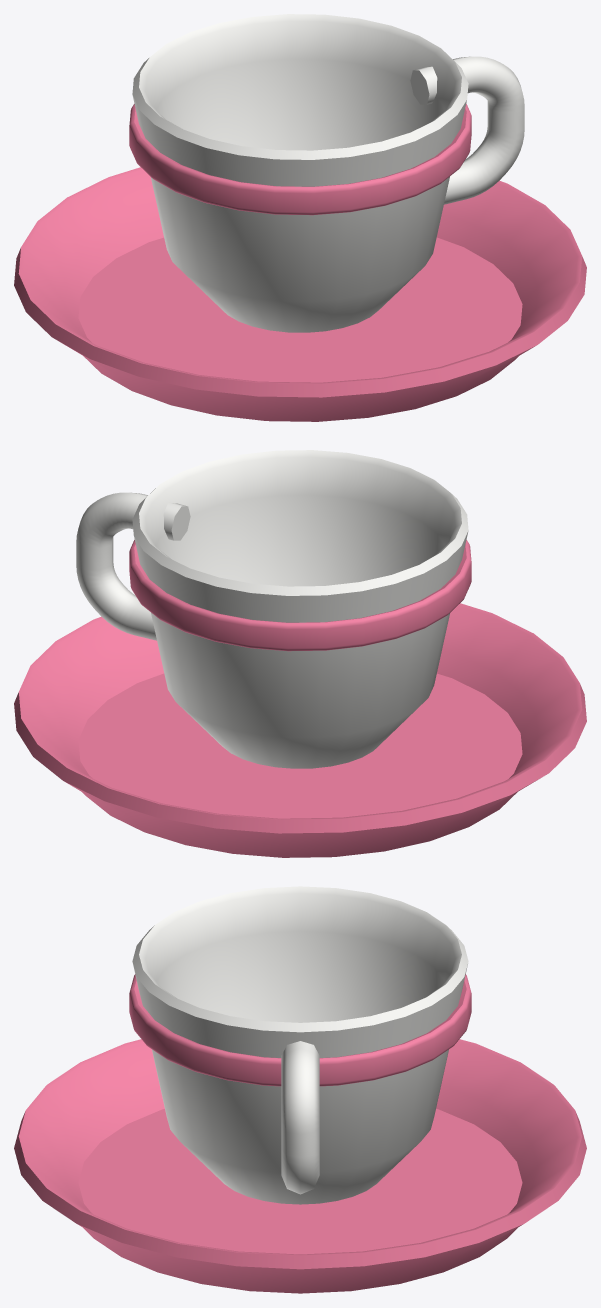
File: xicara_pires_rosa.glb
3 views of the same model, one above another, from view 1: azimuth 30°, elevation 25°; view 2: azimuth 150°, elevation 25°; view 3: azimuth 270°, elevation 25° (orthographic).
Parts seen in each view (by area): view 1: xicara_pires_rosa; view 2: xicara_pires_rosa; view 3: xicara_pires_rosa.
Part boxes in pixels (box(x1,y1,x2,y2)): xicara_pires_rosa: box(14, 14, 586, 421); xicara_pires_rosa: box(14, 450, 586, 857); xicara_pires_rosa: box(14, 886, 586, 1293).
Bounding box in the file's own units: 0.15 × 0.0699 × 0.15.
1 material, 1 textured.
